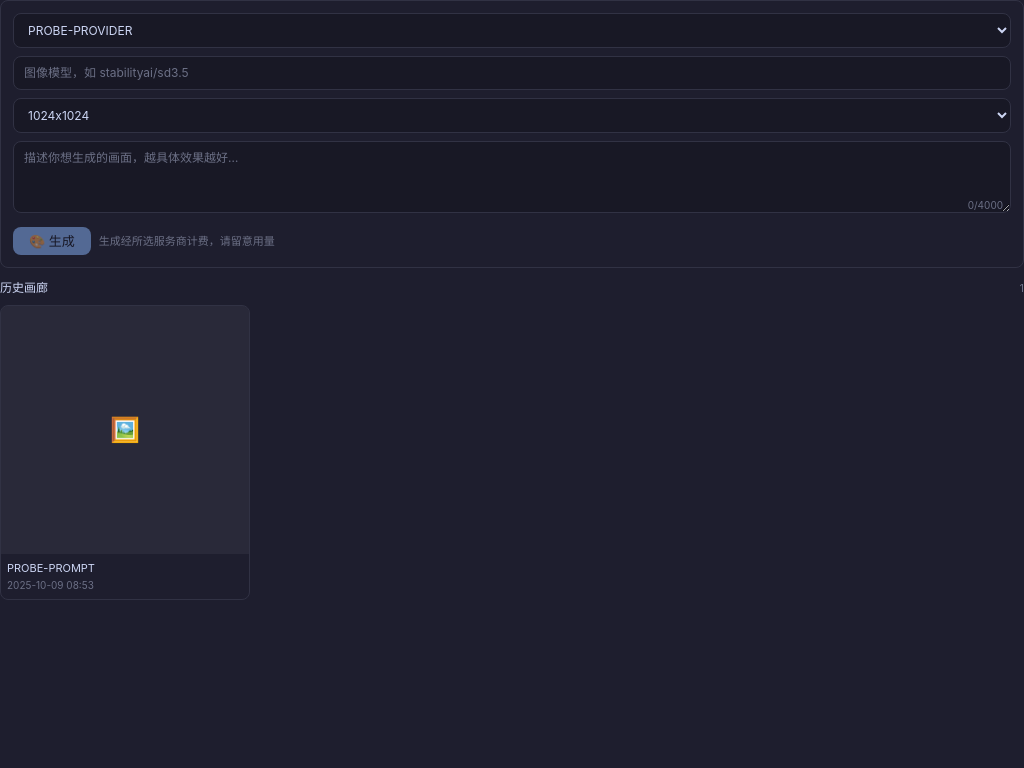
Test: ② 预览弹窗：读不到／文件确实不在／读到了，三张脸 › 读到成功但没带回文件 ⇒ 保留原来那句「图片加载失败或文件已不存在」，且没有「读不到」
The image size is (1024, 768).
Click the text titled "PROBE-PROMPT".
click(51, 568)  # box [7,560,95,574]
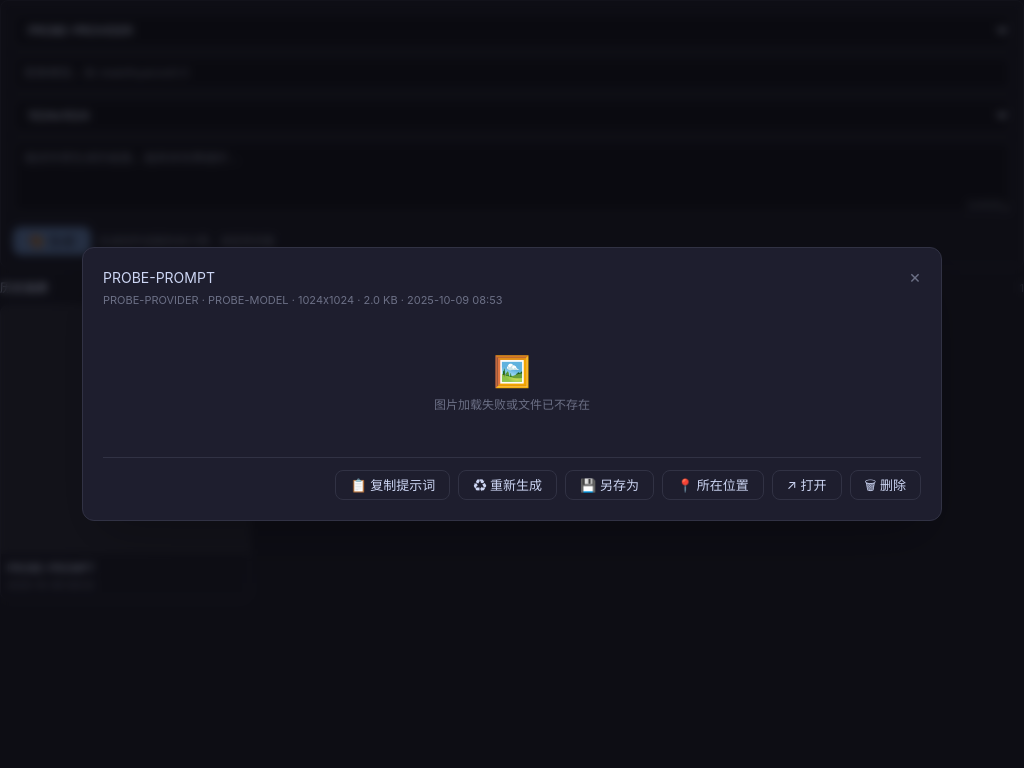
Check: the text "图片加载失败或文件已不存在" is shown, box [434,397,590,413]
